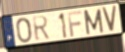1: (57, 12, 68, 40)
F: (66, 10, 83, 39)
M: (82, 8, 105, 37)
O: (15, 17, 33, 45)
R: (31, 15, 51, 43)
V: (100, 5, 118, 33)
